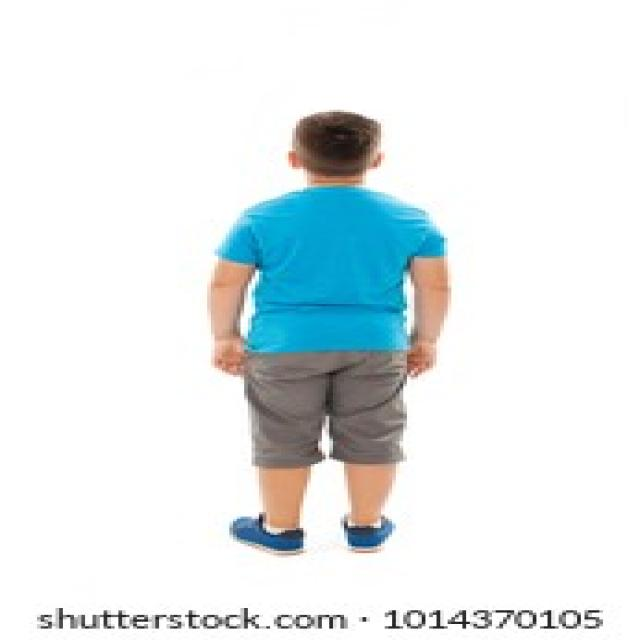child: (204, 107, 452, 557)
